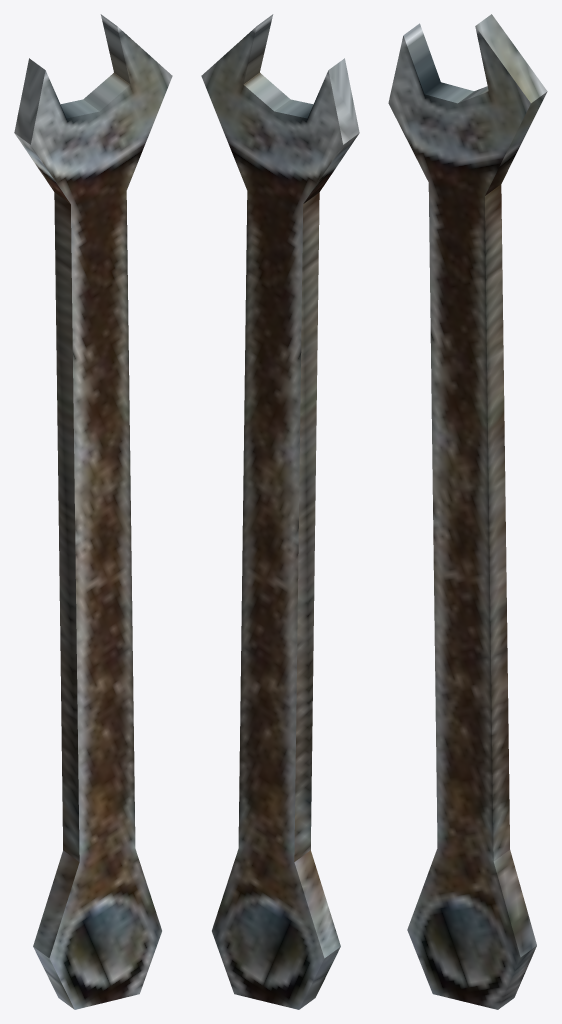
Rendered from tool_wrench.fbx.
3 views of the same model, side by side, from view 1: azimuth 30°, elevation 25°; view 2: azimuth 150°, elevation 25°; view 3: azimuth 330°, elevation 25° (orthographic).
Visible parts, largest first — view 1: Wrench.001; view 2: Wrench.001; view 3: Wrench.001.
Boxes of the visible parts, bbox=[...] form: Wrench.001: bbox=[14, 14, 172, 1009]; Wrench.001: bbox=[201, 14, 359, 1009]; Wrench.001: bbox=[388, 14, 547, 1009].
Bounding box in the file's own units: 31.33 × 205 × 6.29.
Materials: 1 (1 with a texture image).
